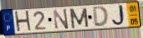2: (33, 11, 48, 31)
D: (91, 5, 110, 28)
H: (14, 10, 33, 34)
J: (111, 4, 128, 28)
M: (68, 7, 90, 30)
N: (52, 8, 70, 30)
